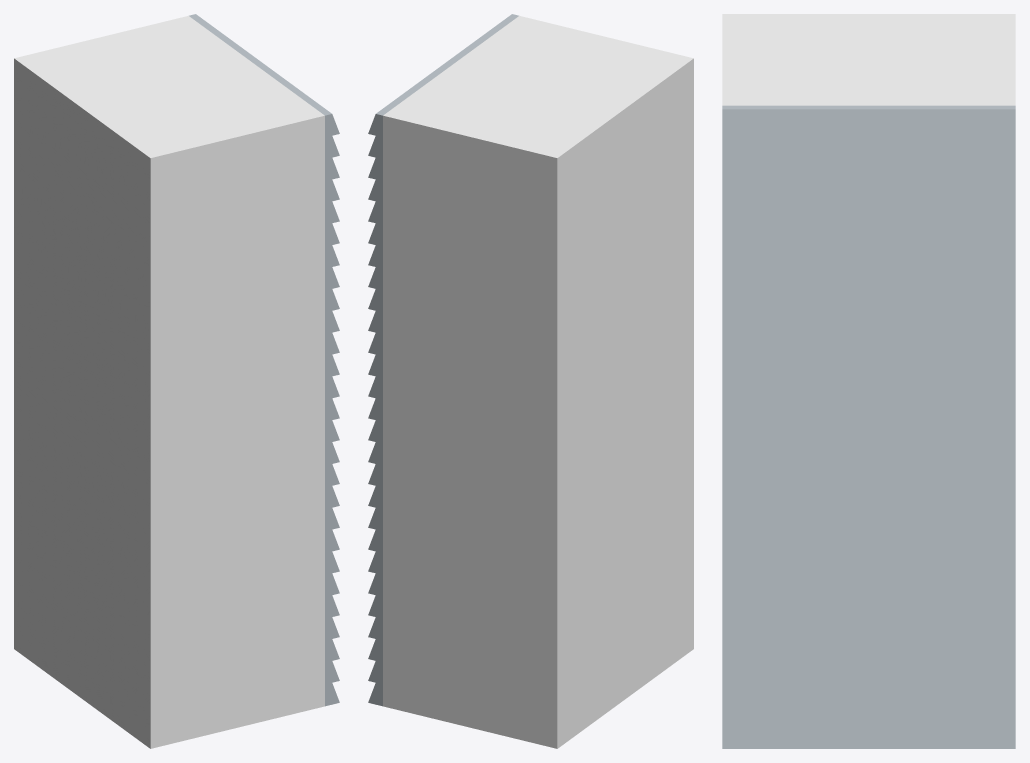
File: fbx_building_6.fbx
3 renders of one model, left to right at view 1: azimuth 30°, elevation 25°; view 2: azimuth 150°, elevation 25°; view 3: azimuth 270°, elevation 25°, orthographic. The views are drawn at different scales.
Visible parts, largest first — view 1: fbx_building_6; view 2: fbx_building_6; view 3: fbx_building_6.
Part boxes in pixels (bbox=[...]): fbx_building_6: bbox=[14, 14, 339, 748]; fbx_building_6: bbox=[368, 14, 693, 748]; fbx_building_6: bbox=[722, 14, 1015, 748].
Size of the model in its own units: 11.24 by 33.49 by 14.02.
2 materials, 1 textured.
